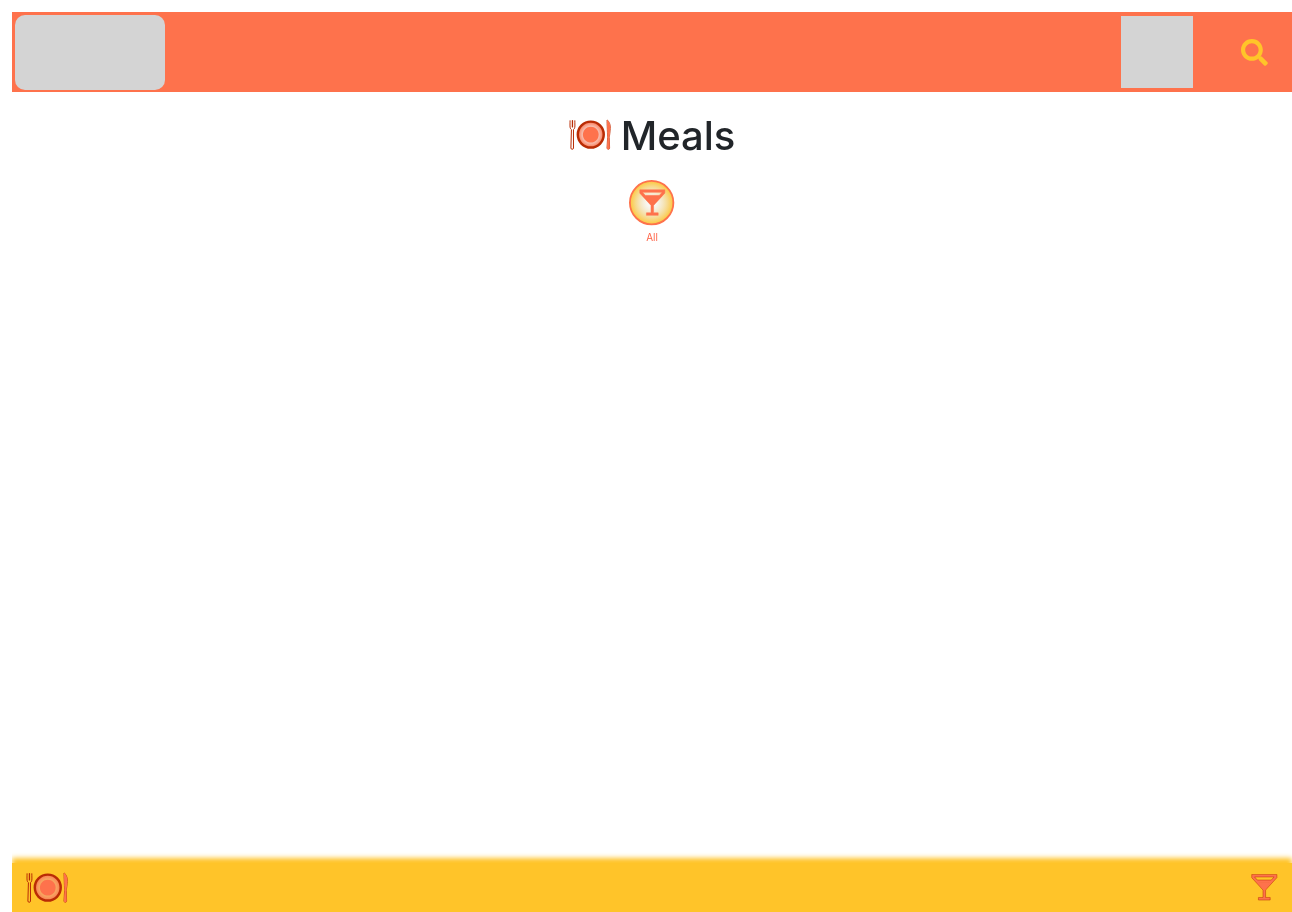
Test: Testes para o componente Header › Verifica o clique do botão searchIcon
The width and height of the screenshot is (1292, 912).
Click the button with test id "search-top-btn" at (1254, 52), box x1=1237 y1=34 x2=1272 y2=70
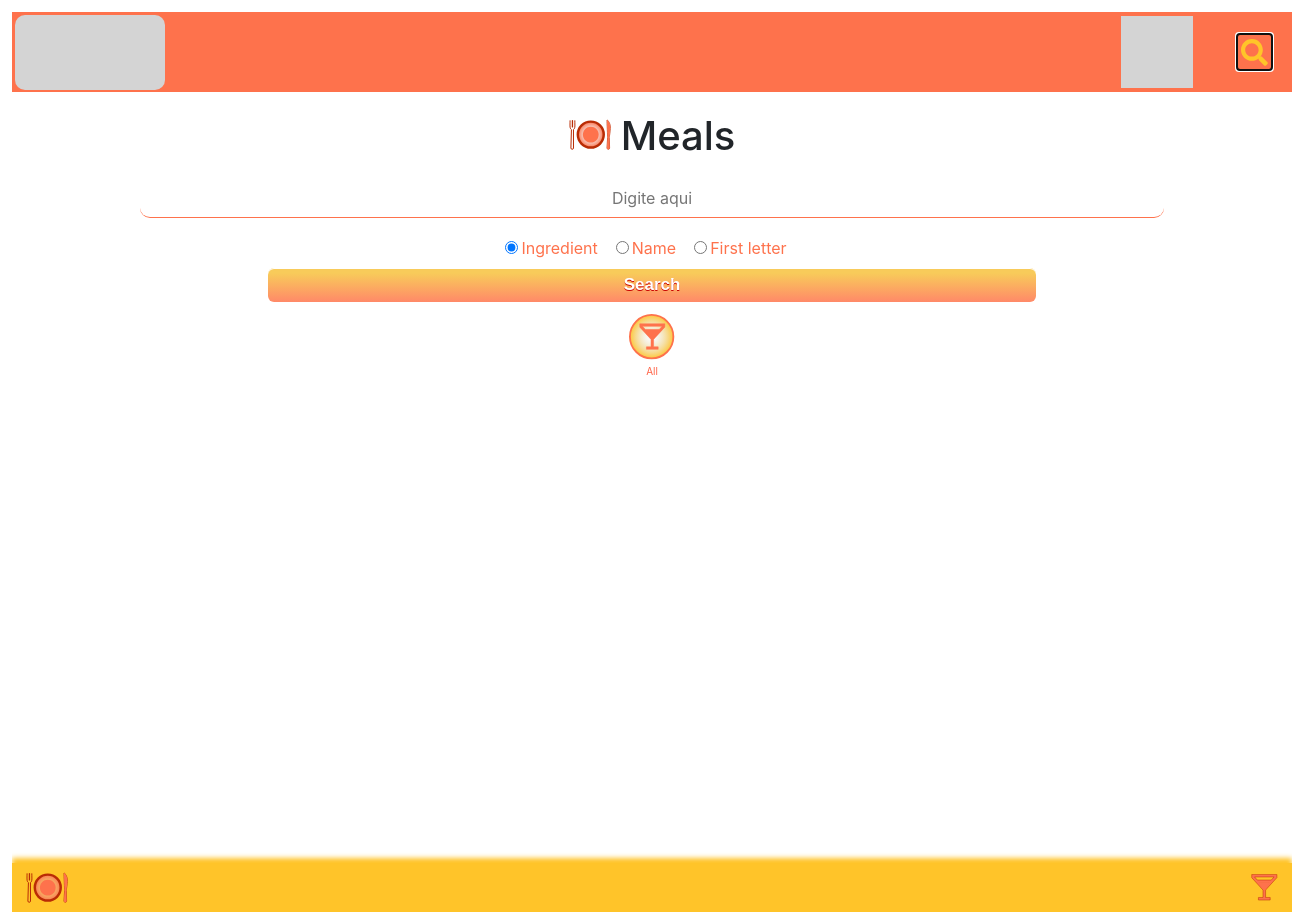
Check: the field with test id "search-input" is shown, box x1=140 y1=178 x2=1164 y2=218
